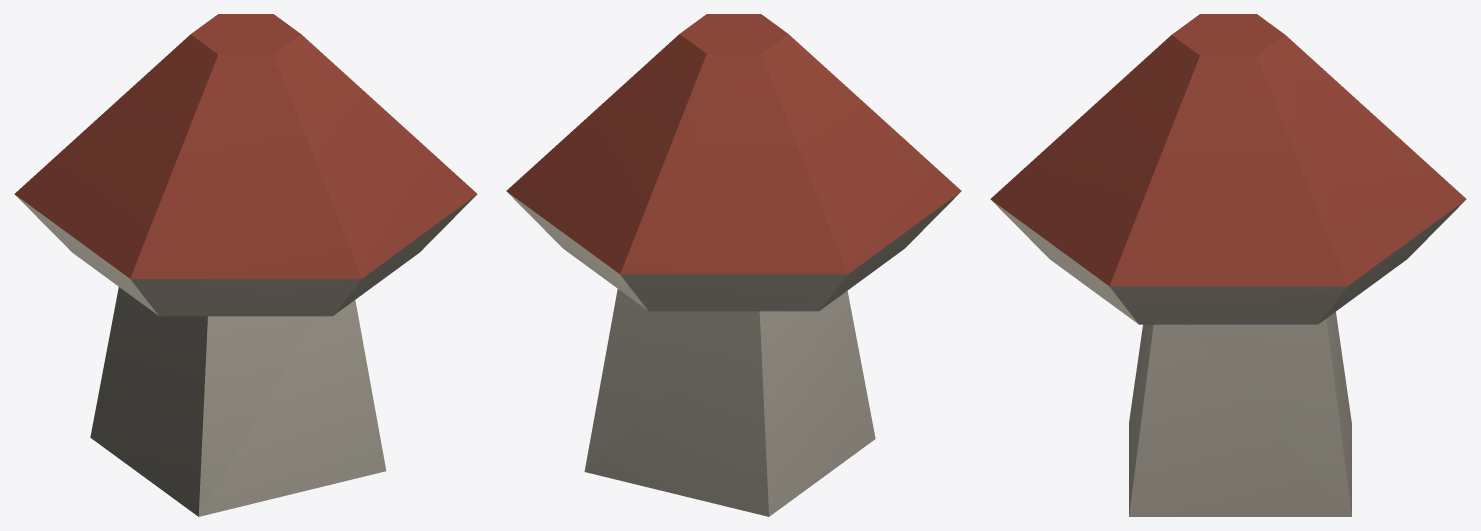
Rendered from mushroom_red.glb.
The picture shows the model from 3 angles, left to right: view 1: azimuth 30°, elevation 25°; view 2: azimuth 150°, elevation 25°; view 3: azimuth 270°, elevation 25°; orthographic projection. The views are drawn at different scales.
Visible parts, largest first — view 1: mushroom_red.001; view 2: mushroom_red.001; view 3: mushroom_red.001.
Boxes of the visible parts, x1,y1,x2,y2 form: mushroom_red.001: (14,14,477,516); mushroom_red.001: (506,14,961,516); mushroom_red.001: (990,14,1466,516).
Size of the model in its own units: 0.2573 by 0.3 by 0.2972.
